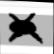not correct: (3, 10, 45, 46)
